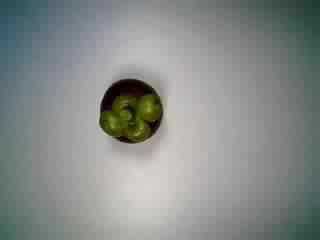mangosteen: (94, 75, 166, 148)
